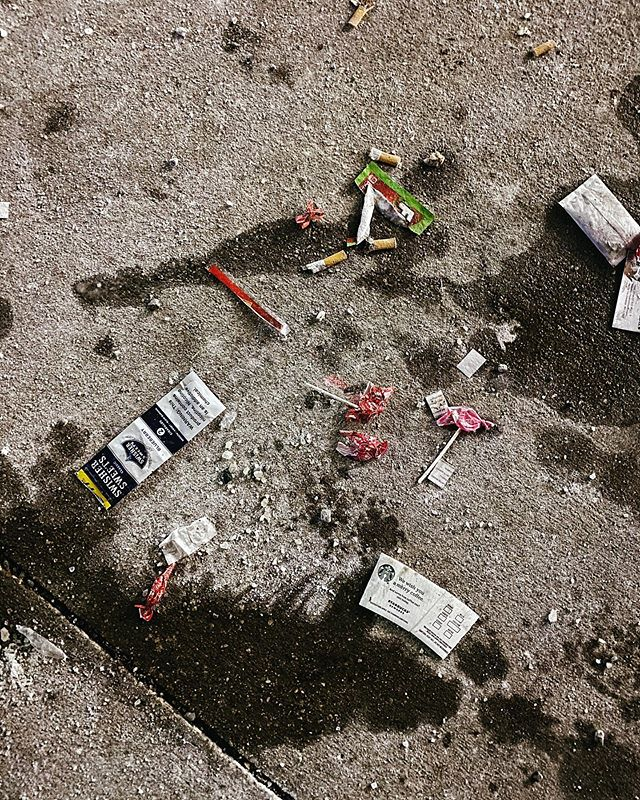trash: (1, 108, 640, 741)
